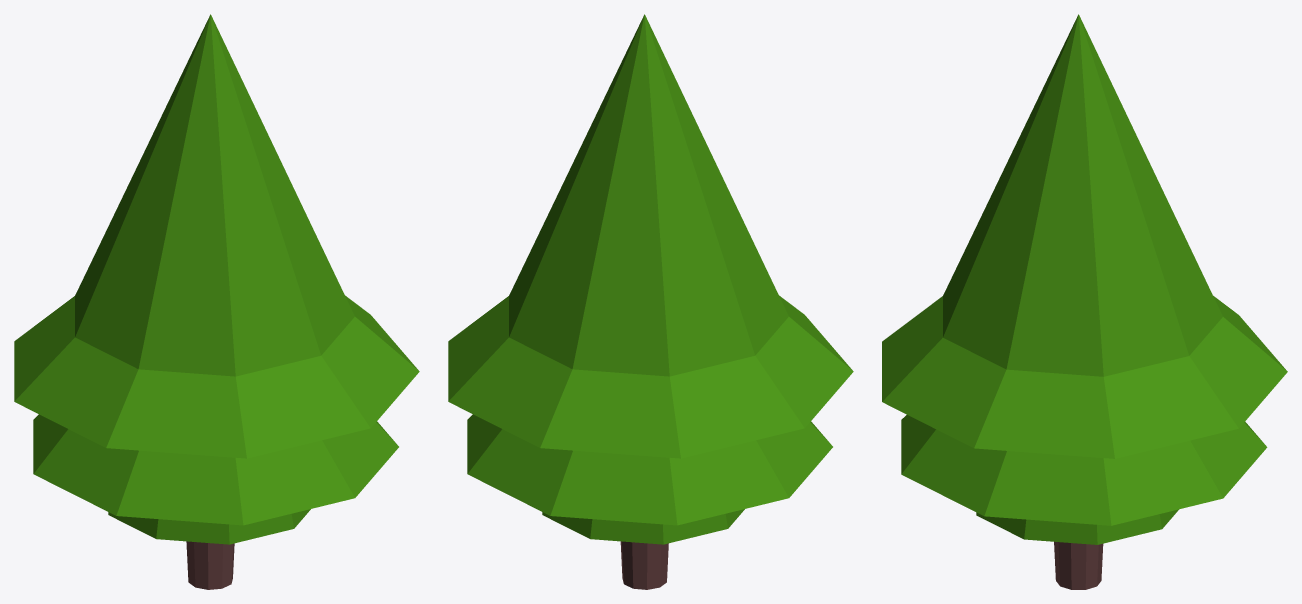
Rendered from Cone Tree.fbx.
3 views of the same model, side by side, from view 1: azimuth 30°, elevation 25°; view 2: azimuth 150°, elevation 25°; view 3: azimuth 270°, elevation 25° (orthographic).
Parts seen in each view (by area): view 1: Sphere, Cylinder; view 2: Sphere, Cylinder; view 3: Sphere, Cylinder.
Part boxes in pixels (<box>): Sphere: <box>14,14,419,544</box>; Cylinder: <box>186,541,234,589</box>; Sphere: <box>448,14,853,544</box>; Cylinder: <box>620,541,668,589</box>; Sphere: <box>882,14,1287,544</box>; Cylinder: <box>1054,541,1103,589</box>.
Size of the model in its own units: 611 by 928 by 602.
